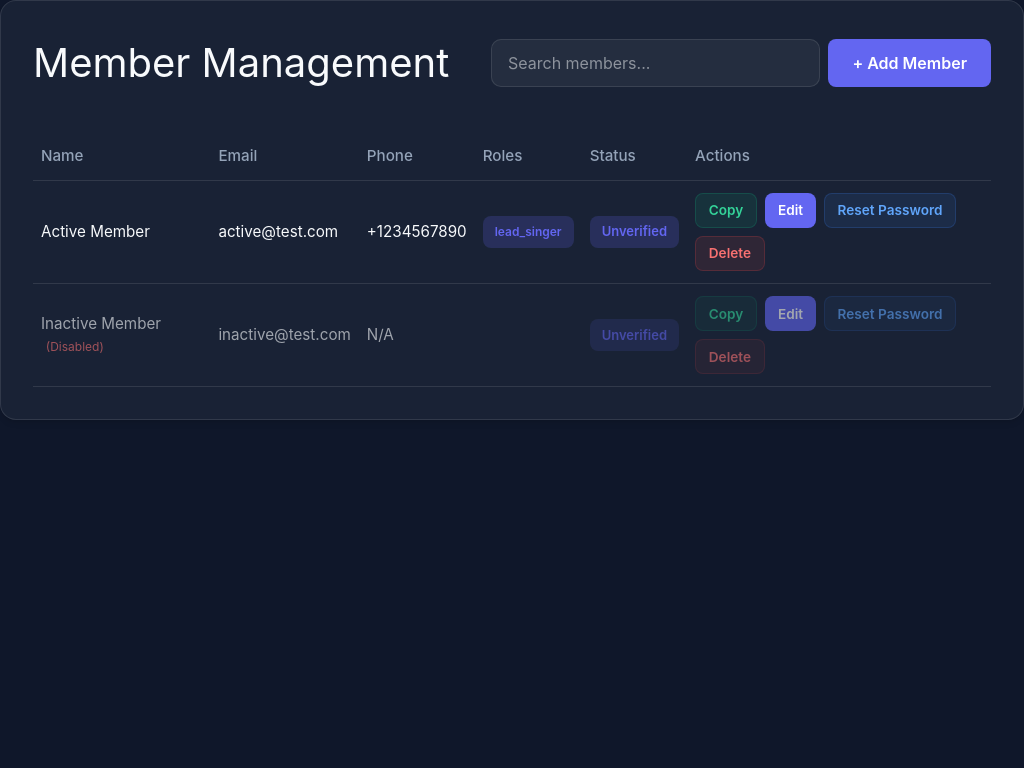
it: MembersManagement Page Tests › copies a member to start creation with pre-filled data
This screenshot has width=1024, height=768.
What coordinates should you click on to do the following:
click the button "Copy" in the row of "+1234567890"
I would click on:
 (726, 210)
Its box is [695,193,757,228].
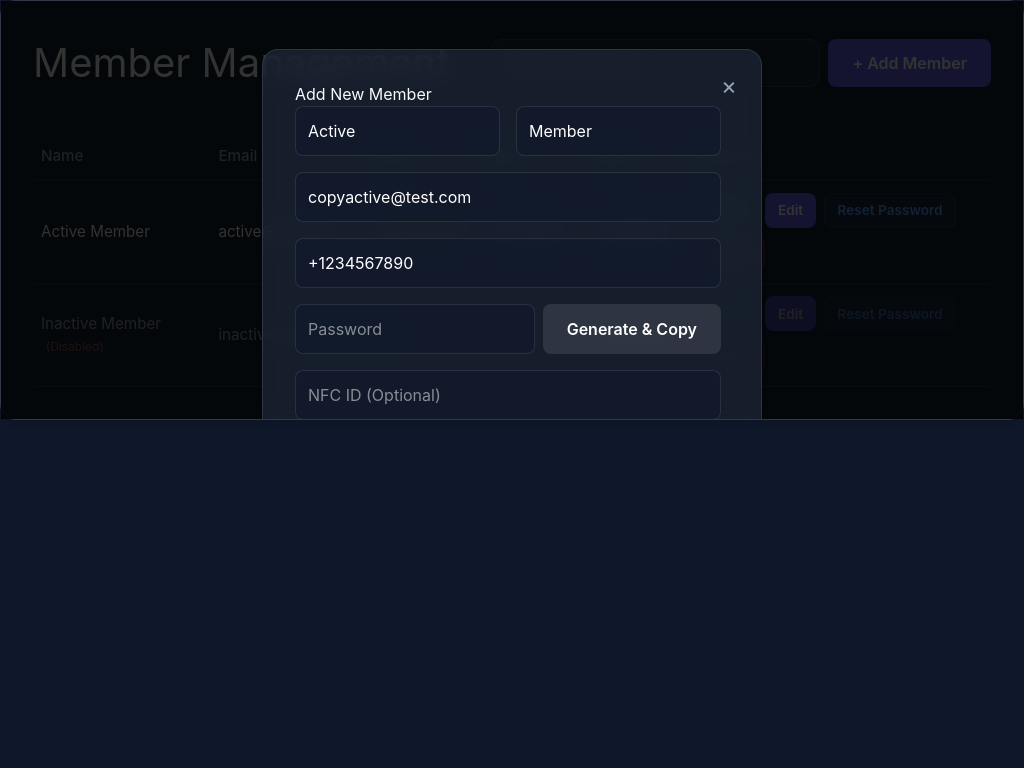
Check: the heading "Add New Member" is shown, box [295,84,432,104]
Check: the 1st field with placeholder "First Name" holds "Active", box [295,106,500,156]
Check: the 2nd field with placeholder "Last Name" holds "Member", box [516,106,721,156]
